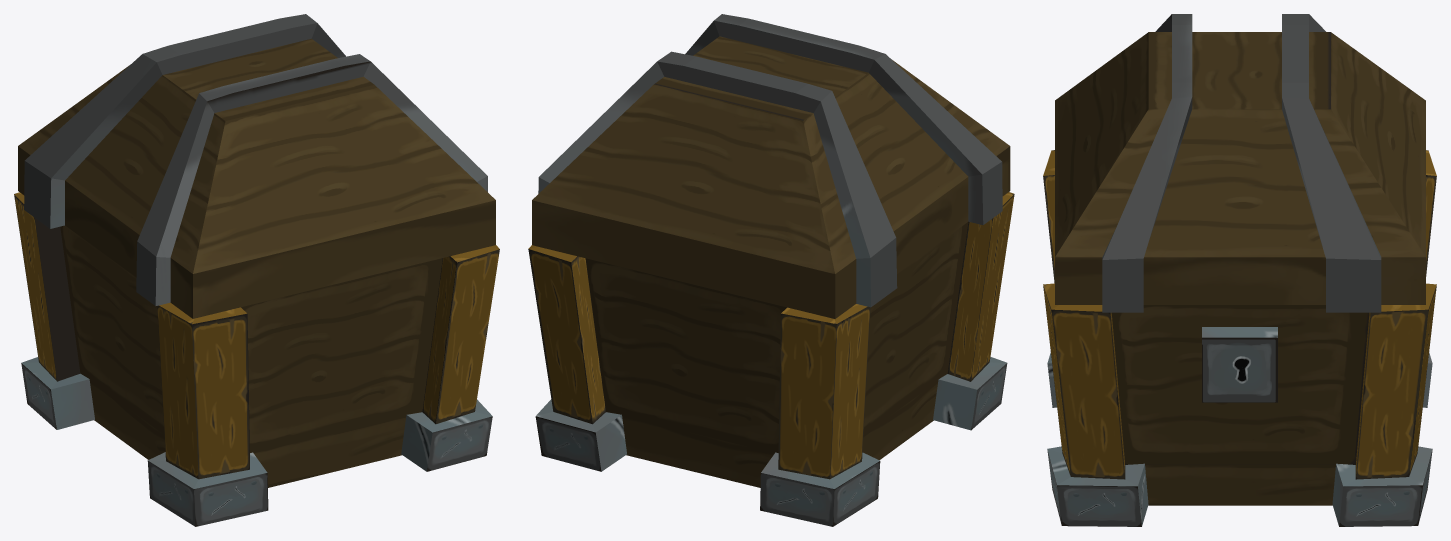
The model's file is chestTop.fbx.
3 views of the same model, side by side, from view 1: azimuth 30°, elevation 25°; view 2: azimuth 150°, elevation 25°; view 3: azimuth 270°, elevation 25° (orthographic). The views are drawn at different scales.
Parts seen in each view (by area): view 1: Cube.002, Cube; view 2: Cube.002, Cube; view 3: Cube.002, Cube, Cube.001.
Boxes of the visible parts, x1,y1,x2,y2 form: Cube.002: (18, 14, 495, 318); Cube: (14, 192, 499, 526); Cube.002: (532, 14, 1010, 318); Cube: (528, 192, 1014, 526); Cube.002: (1055, 14, 1425, 312); Cube: (1043, 150, 1436, 526); Cube.001: (1202, 327, 1277, 402).
Size of the model in its own units: 338 by 363 by 327.
3 materials, 3 textured.
